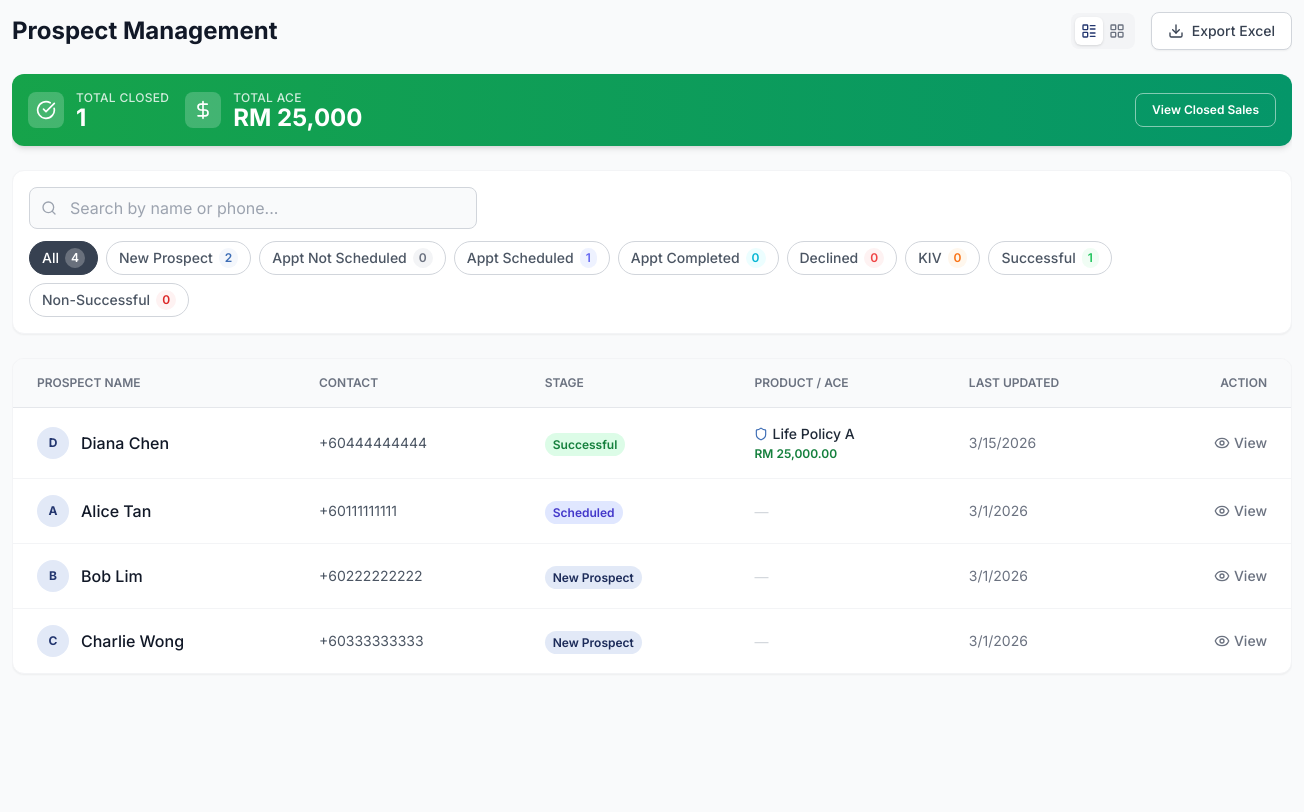
Test: Prospects — search filter › shows "No prospects found." when search has no matches
Check: the text "Alice Tan" is shown, box [81,499,151,523]
Type "zzz" into the field with placeholder "Search by name or phone..." at (253, 208), box [29,187,477,229]
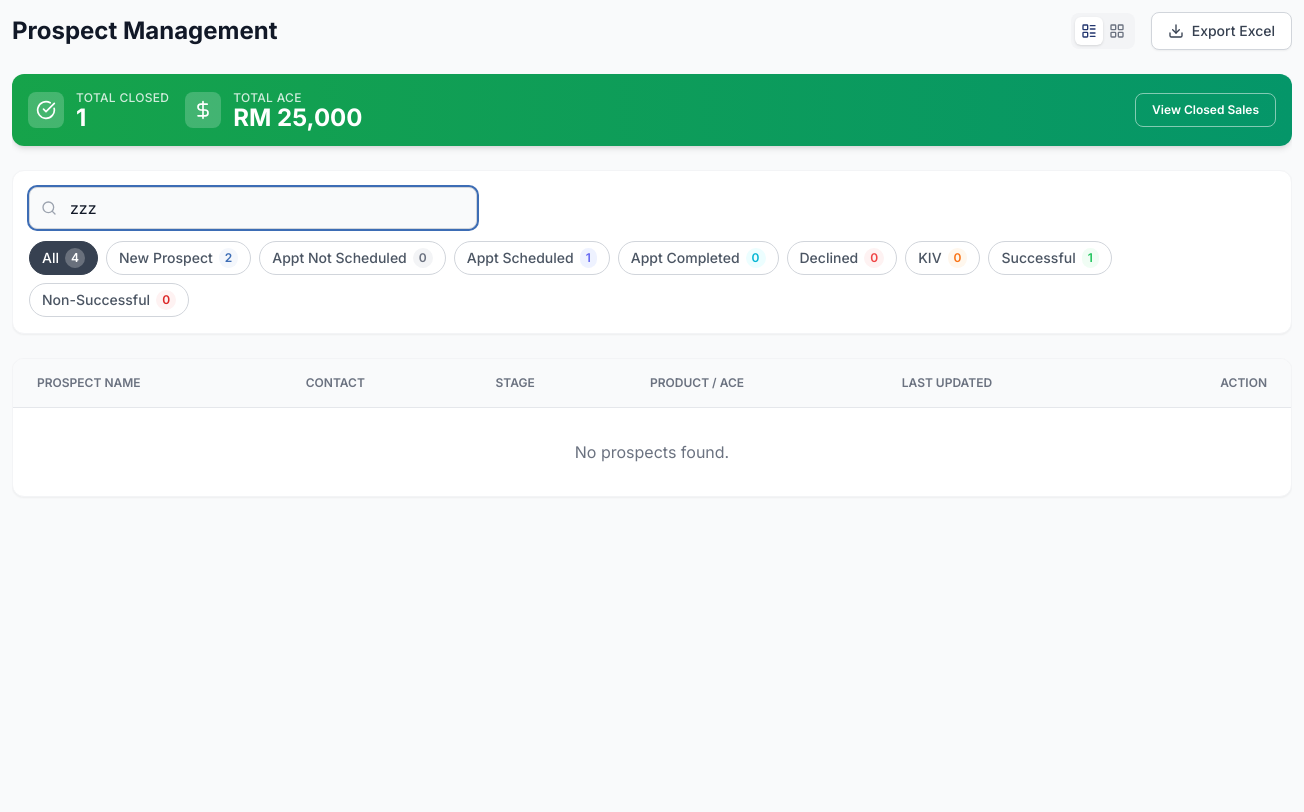
Check: the text "No prospects found." is shown, box [13,408,1291,496]
